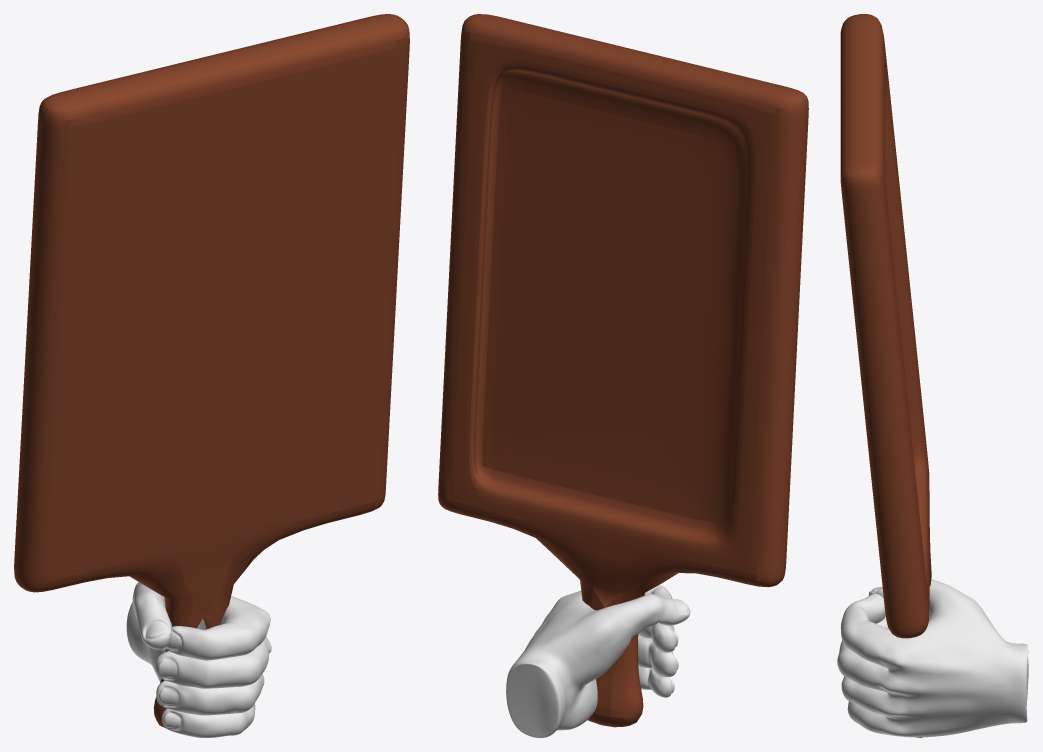
Rendered from левая с доскй большой.fbx.
3 renders of one model, left to right at view 1: azimuth 30°, elevation 25°; view 2: azimuth 150°, elevation 25°; view 3: azimuth 270°, elevation 25°, orthographic. The views are drawn at different scales.
Visible parts, largest first — view 1: левая рука.001; view 2: левая рука.001; view 3: левая рука.001.
Part boxes in pixels (left/top/right/bottom): левая рука.001: left=14, top=14, right=409, bottom=737; левая рука.001: left=438, top=14, right=808, bottom=737; левая рука.001: left=837, top=14, right=1028, bottom=737.
Size of the model in its own units: 22.78 by 41.35 by 11.2.
